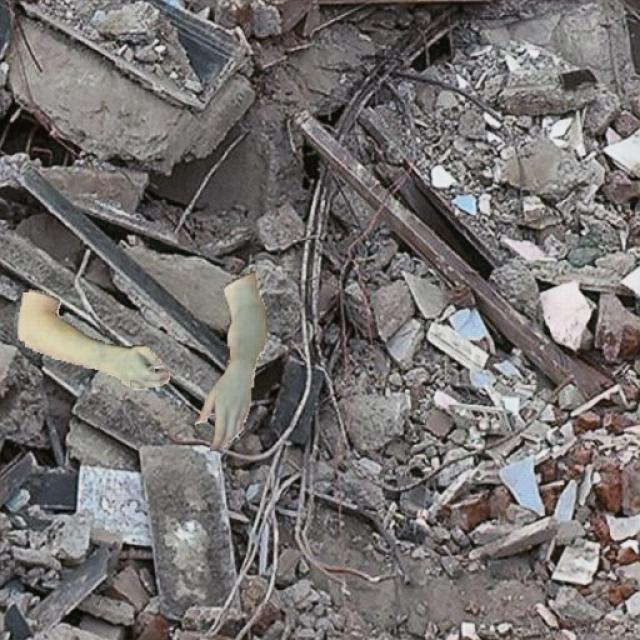Person in Rubble: (18, 271, 266, 450)
